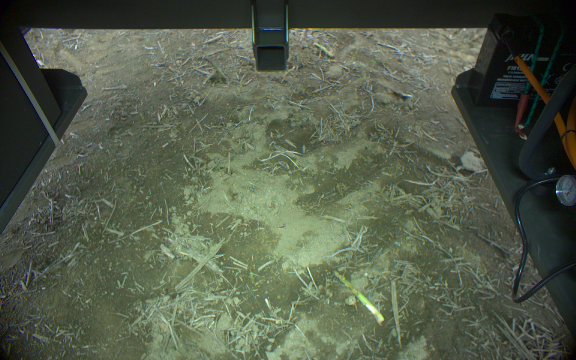aspa: (332, 270, 386, 327), (198, 54, 231, 85), (314, 39, 334, 59)
